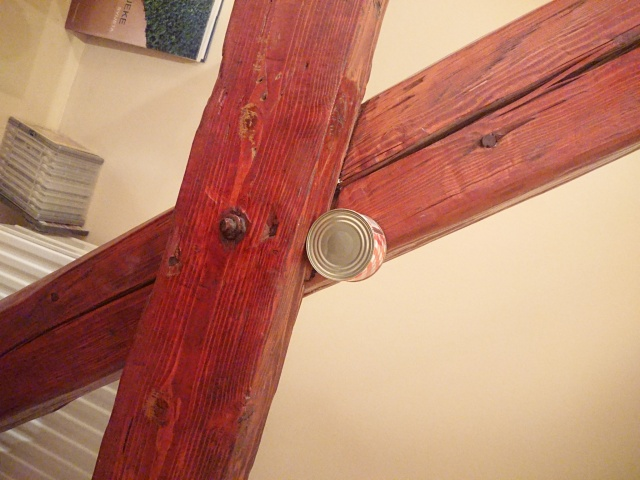Podravka Luncheon Meat 150g: (302, 206, 389, 284)
